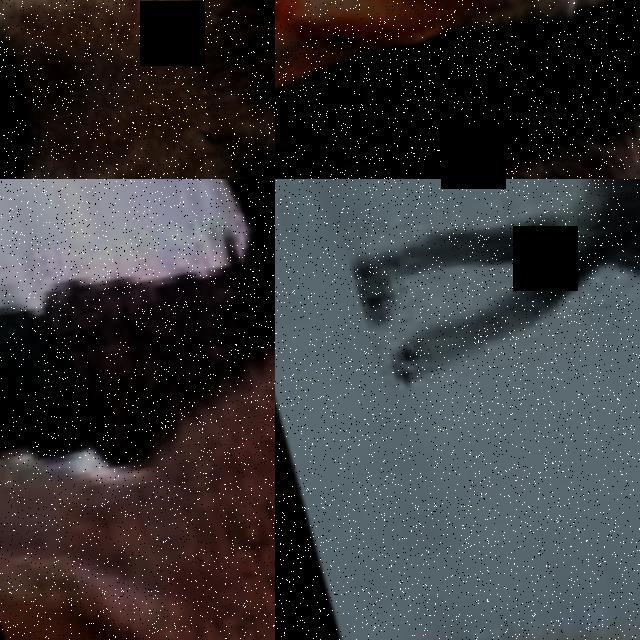wolf: (0, 179, 275, 640), (275, 179, 640, 490), (275, 0, 640, 179), (275, 34, 640, 179), (0, 0, 275, 179)
